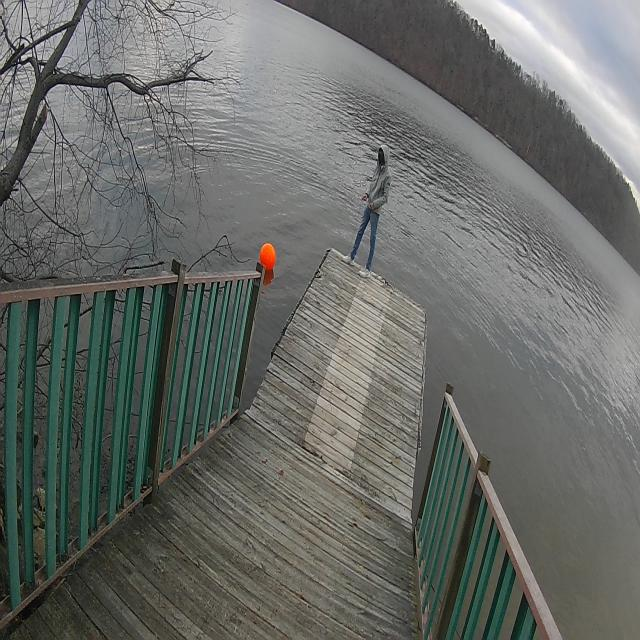Buoy: (257, 238, 277, 270)
